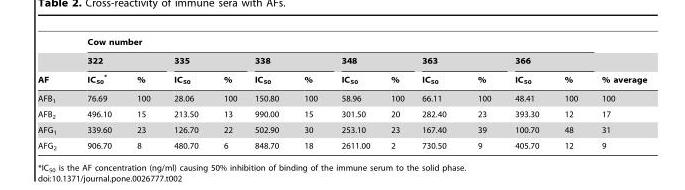table: (37, 37, 646, 150)
table column: (589, 37, 646, 150), (71, 37, 123, 150), (328, 37, 379, 150), (161, 37, 210, 150), (412, 37, 461, 150), (502, 37, 551, 150), (245, 37, 290, 150), (461, 37, 502, 150), (123, 37, 161, 150), (290, 37, 328, 150), (551, 37, 589, 150), (210, 37, 245, 150), (37, 37, 71, 150), (379, 37, 412, 150)
table column header: (37, 37, 646, 89)
table row: (37, 69, 646, 89), (37, 51, 646, 69), (37, 89, 646, 106), (37, 106, 646, 122), (37, 122, 646, 138), (37, 37, 646, 51), (37, 138, 646, 150)
table spanning cell: (71, 37, 589, 51), (589, 37, 646, 89), (37, 37, 71, 89), (71, 51, 161, 69), (412, 51, 502, 69), (502, 51, 589, 69), (161, 51, 245, 69), (328, 51, 412, 69), (245, 51, 328, 69)
